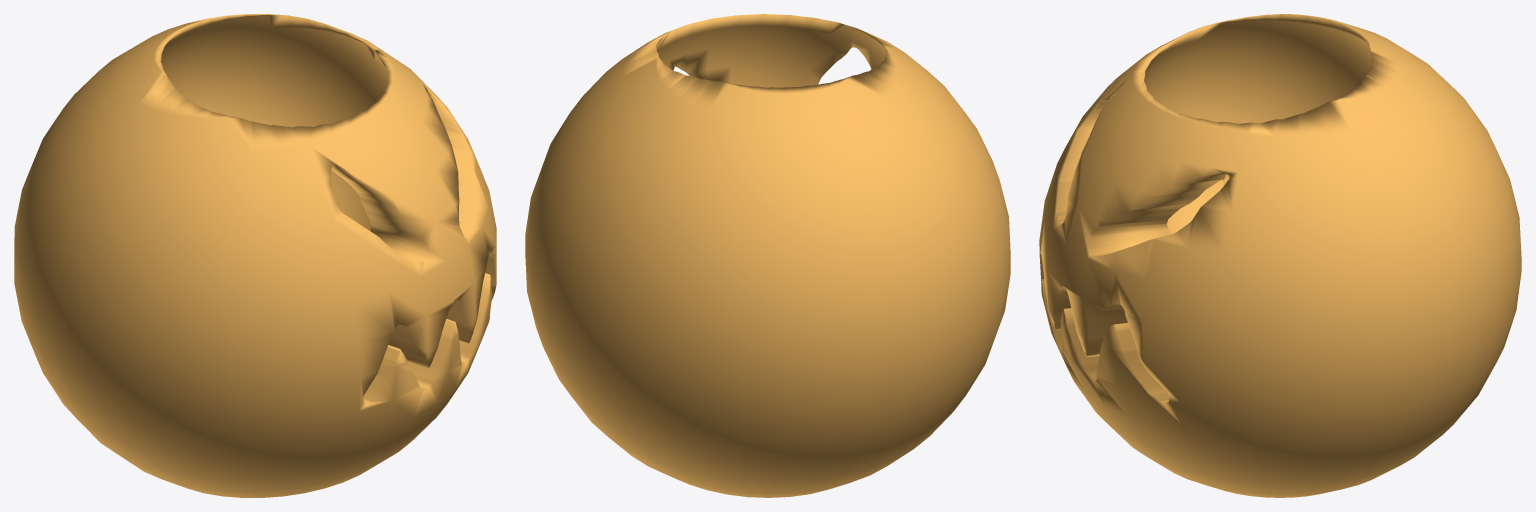
3 renders of one model, left to right at view 1: azimuth 30°, elevation 25°; view 2: azimuth 150°, elevation 25°; view 3: azimuth 270°, elevation 25°, orthographic.
Visible parts, largest first — view 1: obj_0.006; view 2: obj_0.006; view 3: obj_0.006.
Boxes of the visible parts, left/top/right/bottom form: obj_0.006: left=14, top=14, right=496, bottom=497; obj_0.006: left=525, top=14, right=1010, bottom=497; obj_0.006: left=1039, top=14, right=1521, bottom=497.
Size of the model in its own units: 0.0548 by 0.0531 by 0.0549.
